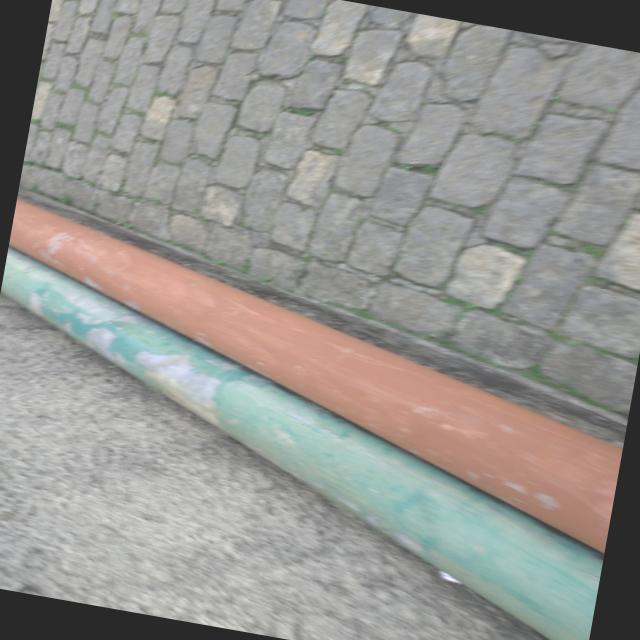gas: (3, 248, 602, 640), (9, 199, 622, 558)
